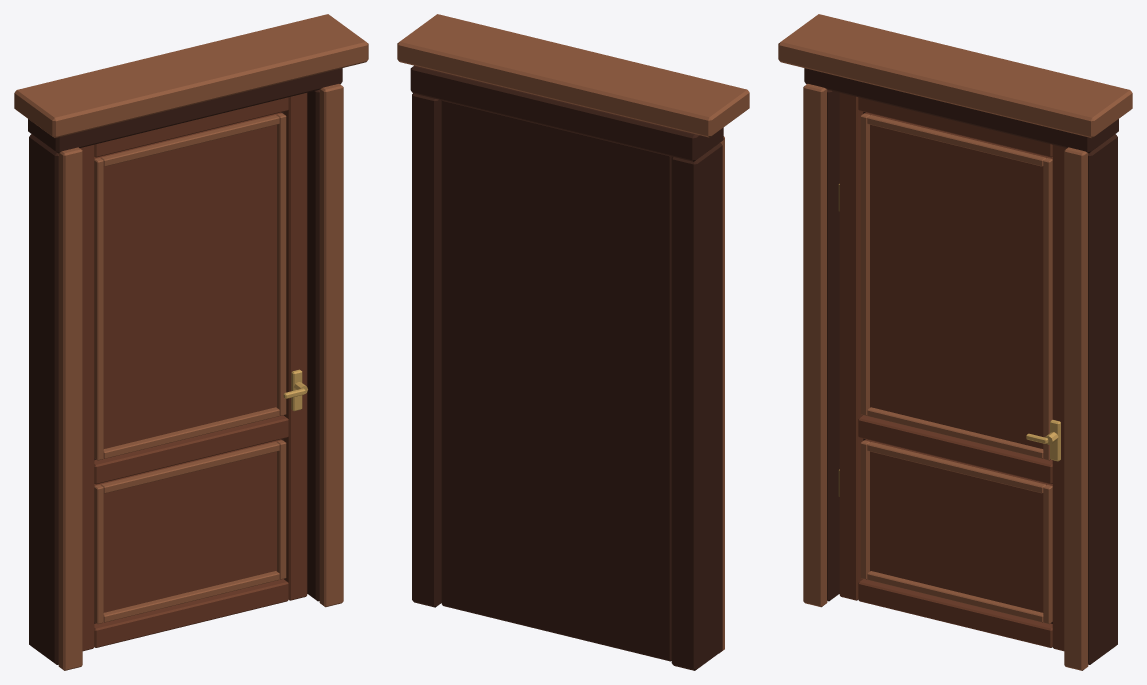
File: door_10.glb
The picture shows the model from 3 angles, left to right: view 1: azimuth 30°, elevation 25°; view 2: azimuth 150°, elevation 25°; view 3: azimuth 330°, elevation 25°; orthographic projection.
Visible parts, largest first — view 1: Panel_0_1_Field, Panel_0_0_Field, Cornice, Jamb__1, Jamb_moulding__1, Jamb_moulding_1, Leaf_stile_0_1, Jamb_1, Leaf_stile_0__1, Lintel, Leaf_crossrail_0_0_048, Leaf_crossrail_0_0_846 (+9 smaller); view 2: Leaf_0, Jamb__1, Cornice, Jamb_1, Lintel, Jamb_moulding__1; view 3: Panel_0_1_Field, Panel_0_0_Field, Cornice, Jamb_1, Jamb_moulding_1, Jamb_moulding__1, Leaf_stile_0__1, Jamb__1, Leaf_stile_0_1, Lintel, Leaf_crossrail_0_0_048, Leaf_crossrail_0_0_846 (+9 smaller).
Boxes of the visible parts, left/top/right/bottom form: Panel_0_1_Field: left=94, top=112, right=281, bottom=448; Panel_0_0_Field: left=94, top=439, right=281, bottom=612; Cornice: left=14, top=14, right=368, bottom=137; Jamb__1: left=29, top=134, right=58, bottom=664; Jamb_moulding__1: left=58, top=147, right=82, bottom=670; Jamb_moulding_1: left=319, top=84, right=343, bottom=607; Leaf_stile_0_1: left=283, top=93, right=307, bottom=600; Jamb_1: left=307, top=89, right=319, bottom=601; Leaf_stile_0__1: left=80, top=145, right=94, bottom=651; Lintel: left=28, top=68, right=342, bottom=153; Leaf_crossrail_0_0_048: left=94, top=579, right=288, bottom=647; Leaf_crossrail_0_0_846: left=94, top=415, right=288, bottom=484; Leaf_0: left=441, top=100, right=672, bottom=661; Jamb__1: left=671, top=142, right=722, bottom=670; Cornice: left=397, top=14, right=749, bottom=137; Jamb_1: left=412, top=93, right=441, bottom=607; Lintel: left=410, top=65, right=723, bottom=161; Jamb_moulding__1: left=719, top=136, right=724, bottom=653; Panel_0_1_Field: left=865, top=112, right=1052, bottom=448; Panel_0_0_Field: left=865, top=439, right=1052, bottom=612; Cornice: left=778, top=14, right=1132, bottom=137; Jamb_1: left=1088, top=134, right=1117, bottom=664; Jamb_moulding_1: left=1064, top=147, right=1088, bottom=670; Jamb_moulding__1: left=803, top=84, right=827, bottom=607; Leaf_stile_0__1: left=839, top=93, right=863, bottom=600; Jamb__1: left=827, top=89, right=839, bottom=601; Leaf_stile_0_1: left=1052, top=145, right=1066, bottom=651; Lintel: left=804, top=68, right=1118, bottom=153; Leaf_crossrail_0_0_048: left=858, top=579, right=1052, bottom=647; Leaf_crossrail_0_0_846: left=858, top=415, right=1052, bottom=484.
Bounding box in the file's own units: 1.61 × 2.74 × 0.37.
